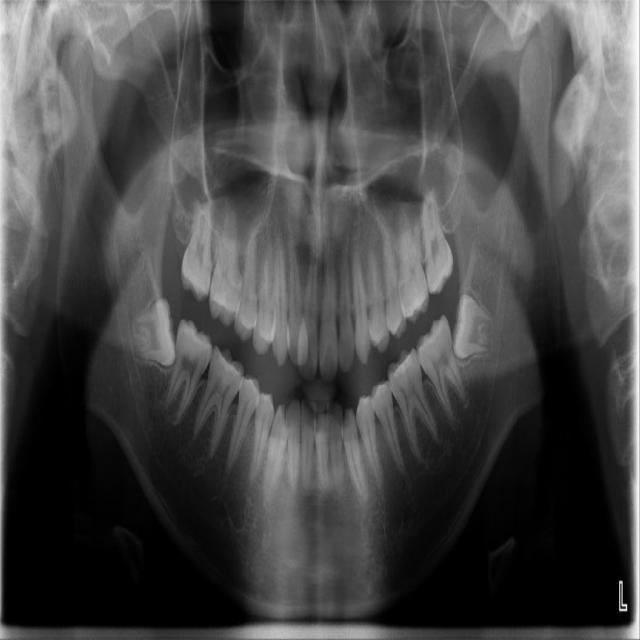73: (599, 582, 612, 602)
BioHorizons Implant: (418, 186, 456, 296)
Biomet 3i Implant: (450, 295, 495, 360)
Blue Sky Bio Implant: (409, 314, 469, 418)
Caries: (180, 198, 214, 303)
Implant: (162, 318, 217, 426)
Keystone Dental Implant: (129, 297, 179, 369)
